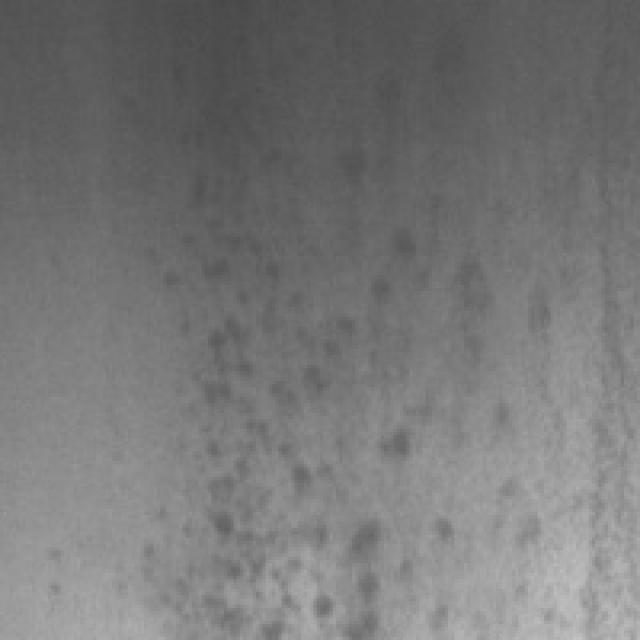pitted_surface: (150, 172, 541, 634)
